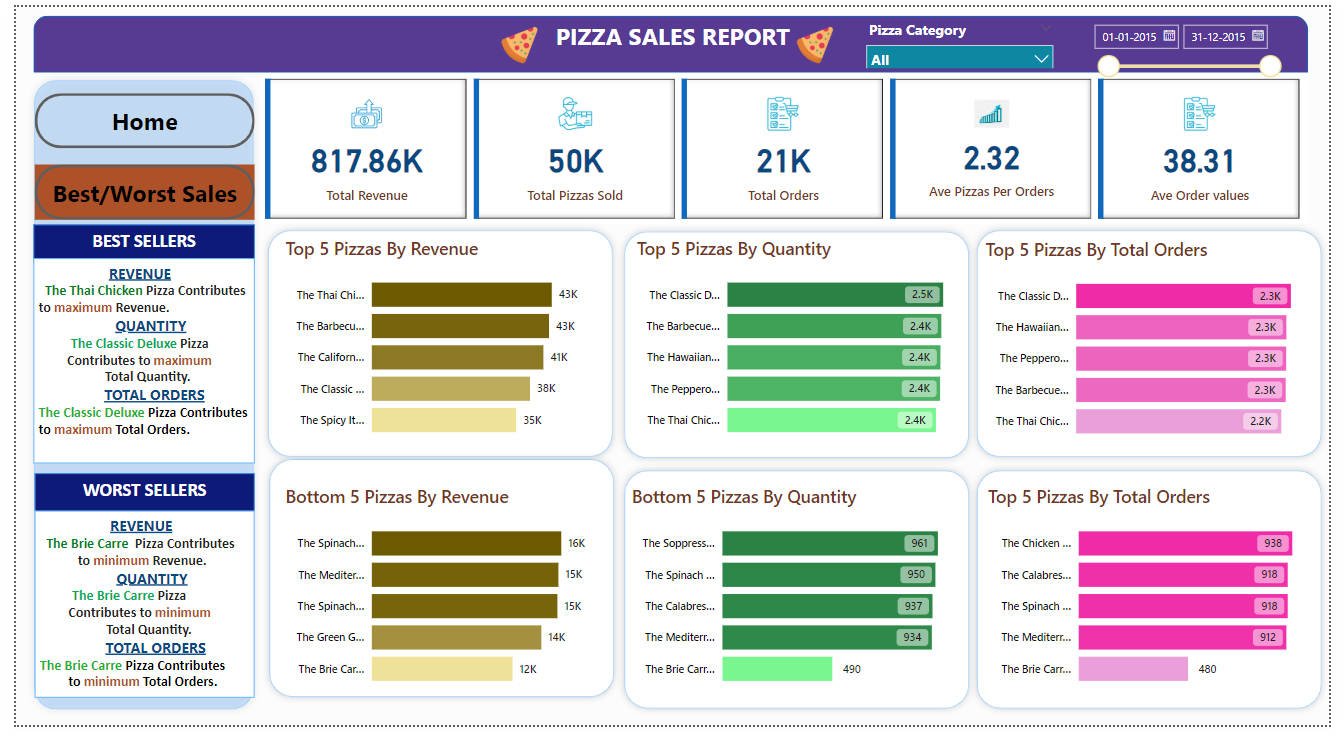

What the dashboard file says about the page in this screenshot:
{"tool":"powerbi","page":{"name":"Best/Worst salers","canvas":[1500,820],"ordinal":1},"visuals":[{"type":"shape","box":[13.3,75,266.7,735],"z":0},{"type":"cardVisual","fields":{"Data":["pizza_sales.Total Revenue","pizza_sales.Total Pizzas Sold","pizza_sales.Total Orders","pizza_sales.Ave Pizzas Per Orders","pizza_sales.Ave Order values"]},"box":[280,76.7,1196.7,170],"z":1000},{"type":"shape","box":[20,10,1456.7,65],"z":2000},{"type":"textbox","box":[587.9,10.6,324.2,65.2],"z":3000},{"type":"image","box":[531.8,16.7,87.9,53],"z":4000},{"type":"image","box":[863.6,16.7,97,53],"z":5000},{"type":"shape","box":[280,246.7,410,275],"z":6000},{"type":"textbox","box":[20,248.6,252.9,44.3],"z":16000},{"type":"textbox","box":[20,287.1,252.9,234.3],"z":17000},{"type":"textbox","box":[21.2,532.5,251.2,43.8],"z":18000},{"type":"textbox","box":[21.2,576.2,251.2,213.8],"z":19000},{"type":"slicer","fields":{"Values":["pizza_sales.pizza_category"]},"box":[961.4,10,234.3,60],"z":20000},{"type":"slicer","fields":{"Values":["pizza_sales.order_date"]},"box":[1220,10,234.3,77.1],"z":21000},{"type":"shape","box":[686.7,248.3,410,275],"z":21001},{"type":"shape","box":[1090,246.7,410,275],"z":21002},{"type":"shape","box":[280.9,509.1,410,288.2],"z":21003},{"type":"shape","box":[686.7,521.7,410,288.3],"z":21004},{"type":"shape","box":[1090,521.7,410,288.3],"z":21005},{"type":"barChart","title":"Top 5 Pizzas By Revenue","fields":{"Category":["pizza_sales.pizza_name"],"Y":["pizza_sales.Total Revenue"]},"box":[303.3,261.7,365,245],"z":21006},{"type":"barChart","title":"Bottom 5 Pizzas By Revenue","fields":{"Category":["pizza_sales.pizza_name"],"Y":["pizza_sales.Total Revenue"]},"box":[303.3,545,365,245],"z":21007},{"type":"barChart","title":"Top 5 Pizzas By Quantity","fields":{"Category":["pizza_sales.pizza_name"],"Y":["pizza_sales.Total Pizzas Sold"]},"box":[705,261.7,385,245],"z":21008},{"type":"barChart","title":"Bottom 5 Pizzas By Quantity","fields":{"Category":["pizza_sales.pizza_name"],"Y":["pizza_sales.Total Pizzas Sold"]},"box":[698.3,545,385,245],"z":21009},{"type":"barChart","title":"Top 5 Pizzas By Total Orders","fields":{"Category":["pizza_sales.pizza_name"],"Y":["pizza_sales.Total Orders"]},"box":[1103.3,263.3,385,245],"z":21010},{"type":"barChart","title":"Top 5 Pizzas By Total Orders","fields":{"Category":["pizza_sales.pizza_name"],"Y":["pizza_sales.Total Orders"]},"box":[1105,545,385,245],"z":21011},{"type":"actionButton","box":[21.4,180,251.4,62.9],"z":21012},{"type":"actionButton","box":[21.4,98.6,251.4,62.9],"z":21013}]}

Visuals, with their boxes in screenshot pixels (x1, y1, x2, y2), scaled from the page's 1500x820 canvas onto the 1344x736 screenshot:
shape: (12, 67, 251, 727)
cardVisual - pizza_sales.Total Revenue x pizza_sales.Total Pizzas Sold: (251, 69, 1323, 221)
shape: (18, 9, 1323, 67)
textbox: (527, 10, 817, 68)
image: (476, 15, 555, 63)
image: (774, 15, 861, 63)
shape: (251, 221, 618, 468)
textbox: (18, 223, 245, 263)
textbox: (18, 258, 245, 468)
textbox: (19, 478, 244, 517)
textbox: (19, 517, 244, 709)
slicer - pizza_sales.pizza_category: (861, 9, 1071, 63)
slicer - pizza_sales.order_date: (1093, 9, 1303, 78)
shape: (615, 223, 983, 470)
shape: (977, 221, 1343, 468)
shape: (252, 457, 619, 716)
shape: (615, 468, 983, 727)
shape: (977, 468, 1343, 727)
"Top 5 Pizzas By Revenue" barChart: (272, 235, 599, 455)
"Bottom 5 Pizzas By Revenue" barChart: (272, 489, 599, 709)
"Top 5 Pizzas By Quantity" barChart: (632, 235, 977, 455)
"Bottom 5 Pizzas By Quantity" barChart: (626, 489, 971, 709)
"Top 5 Pizzas By Total Orders" barChart: (989, 236, 1334, 456)
"Top 5 Pizzas By Total Orders" barChart: (990, 489, 1335, 709)
actionButton: (19, 162, 244, 218)
actionButton: (19, 88, 244, 145)
